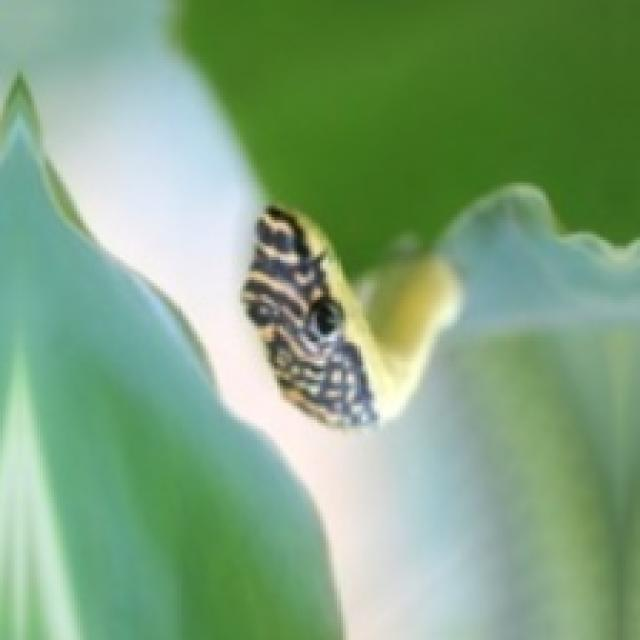paradise tree snake: (243, 206, 457, 426), (243, 206, 374, 423)
